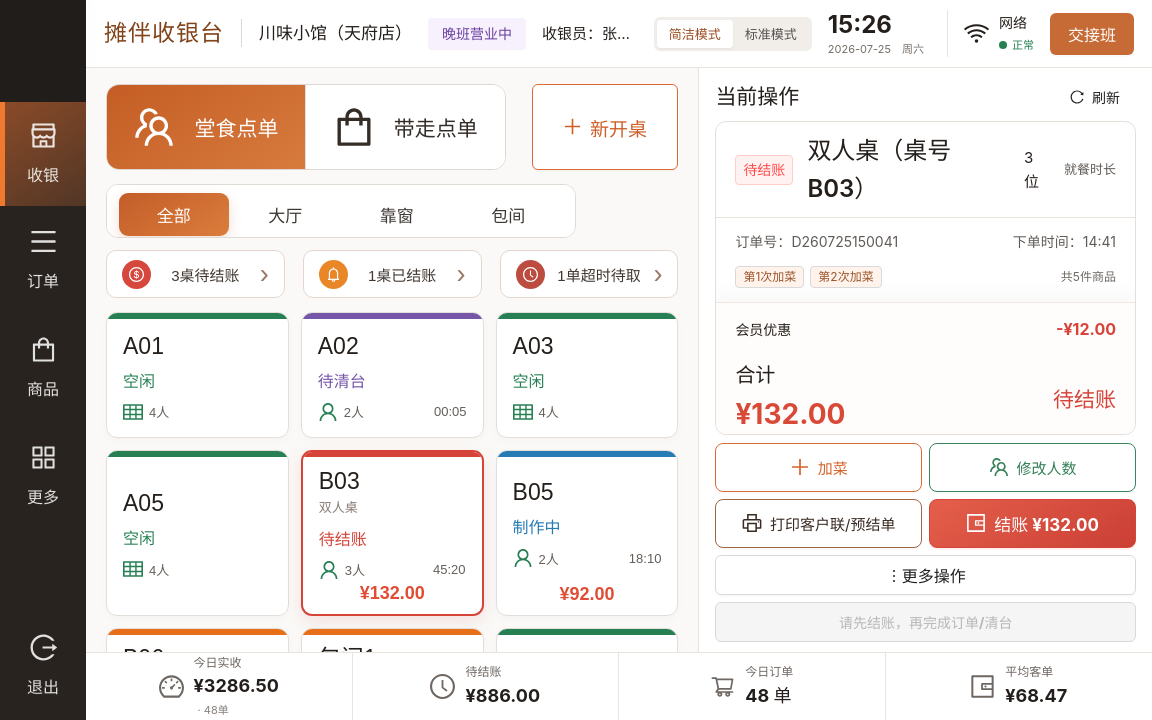
Test: cashier operations › opens the settlement method selector
Click the button "结账 ¥132.00" at (1033, 524), box [929,499,1136,548]
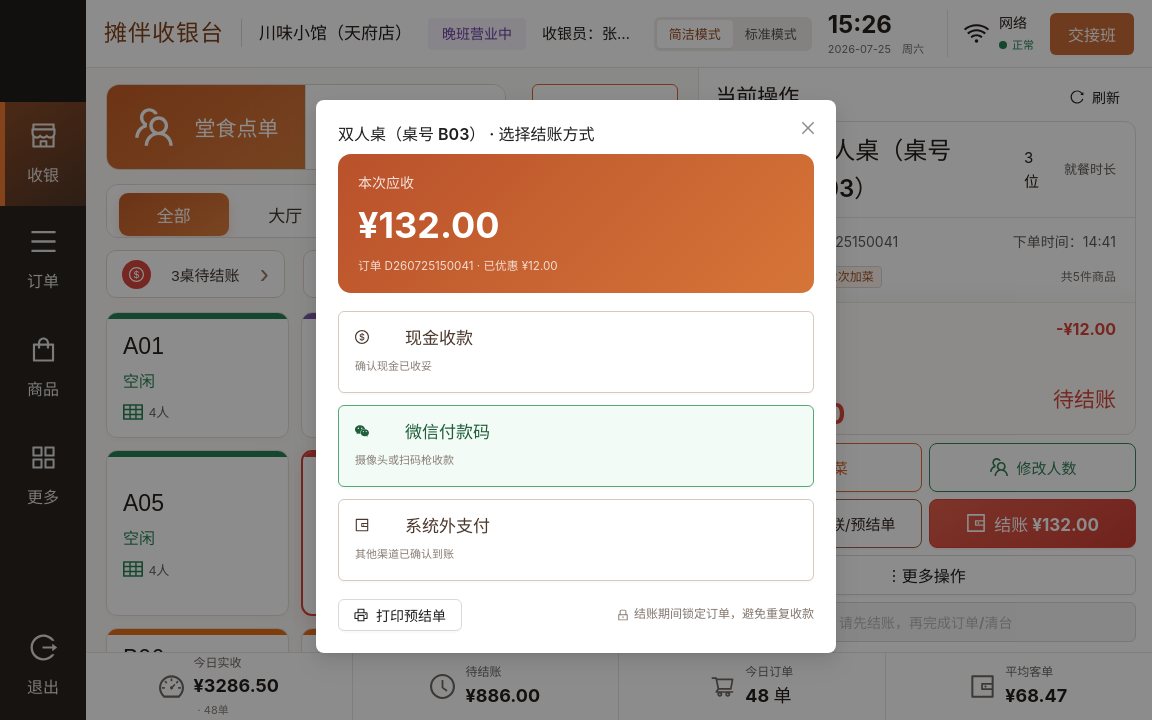
Result: the button "现金收款 确认现金已收妥" is shown at [338,311,814,393]
Result: the button "微信付款码 摄像头或扫码枪收款" is shown at [338,405,814,487]
Result: the button "系统外支付 其他渠道已确认到账" is shown at [338,499,814,581]
